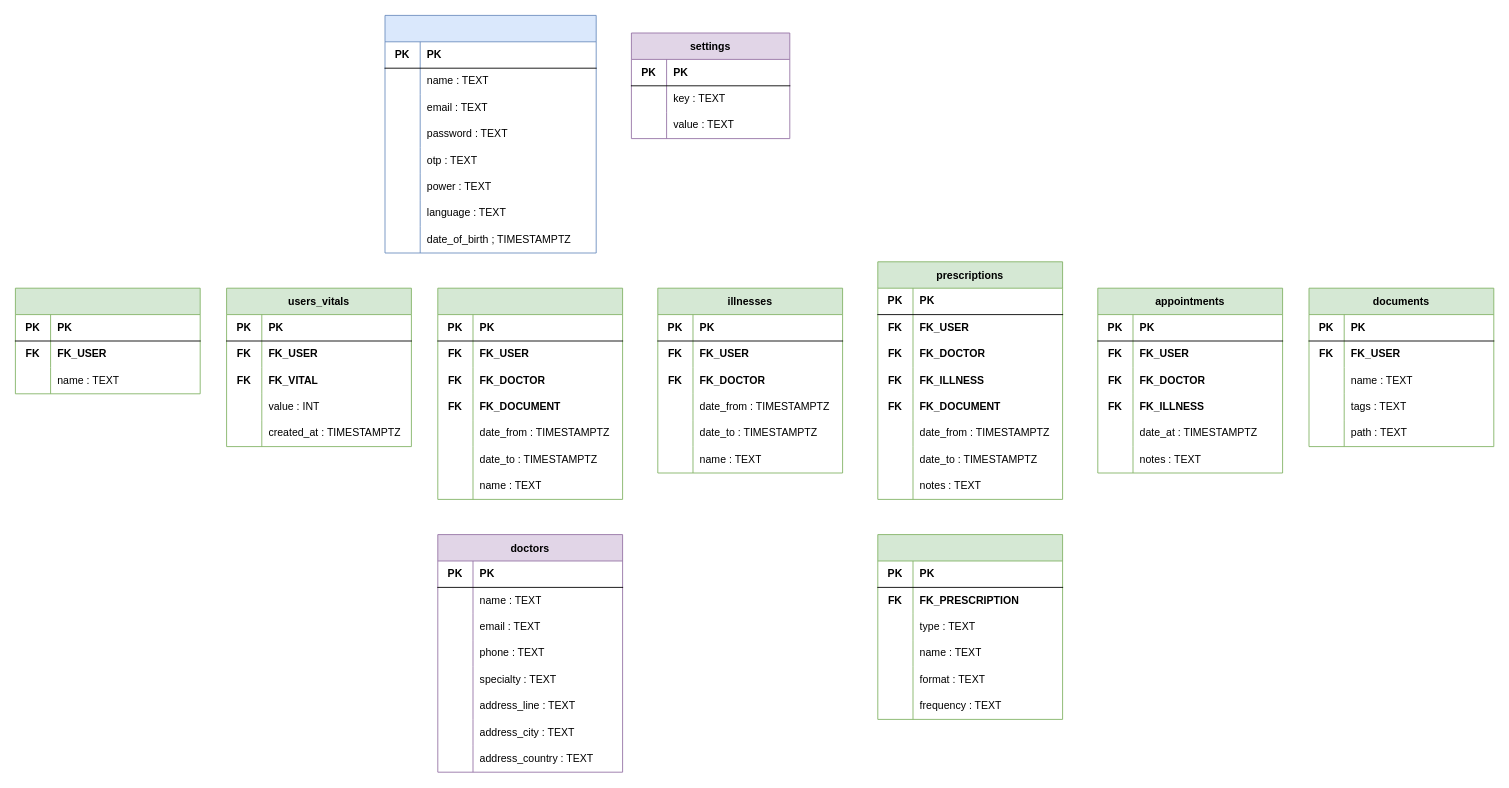
This 1509x788 diagram has some shape labels left out. The shapes that lost their labels are listed below. From the top down, each one's box as (x1, y1, x2, y2) in pixels, then its label:
(384, 15, 596, 253): users
(15, 287, 200, 394): users_vitals_definitions
(437, 287, 623, 499): vaccines
(877, 534, 1063, 719): prescriptions_drugs
